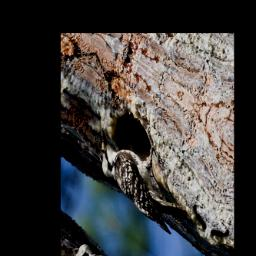Woodpecker: (86, 108, 207, 255)
